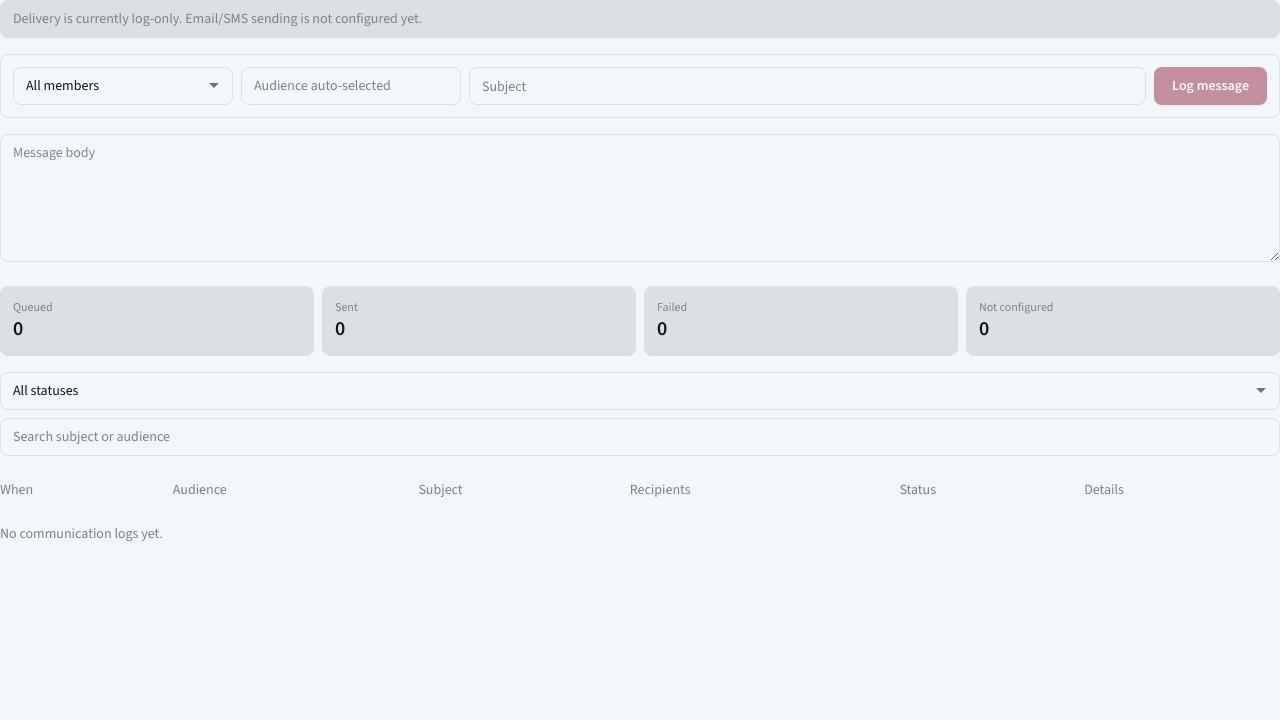
specific communication recipients › shows an empty state when there are no enrollments or no search matches
Type "Hello" into the field with placeholder "Subject" at (808, 86), box left=469, top=67, right=1146, bottom=105
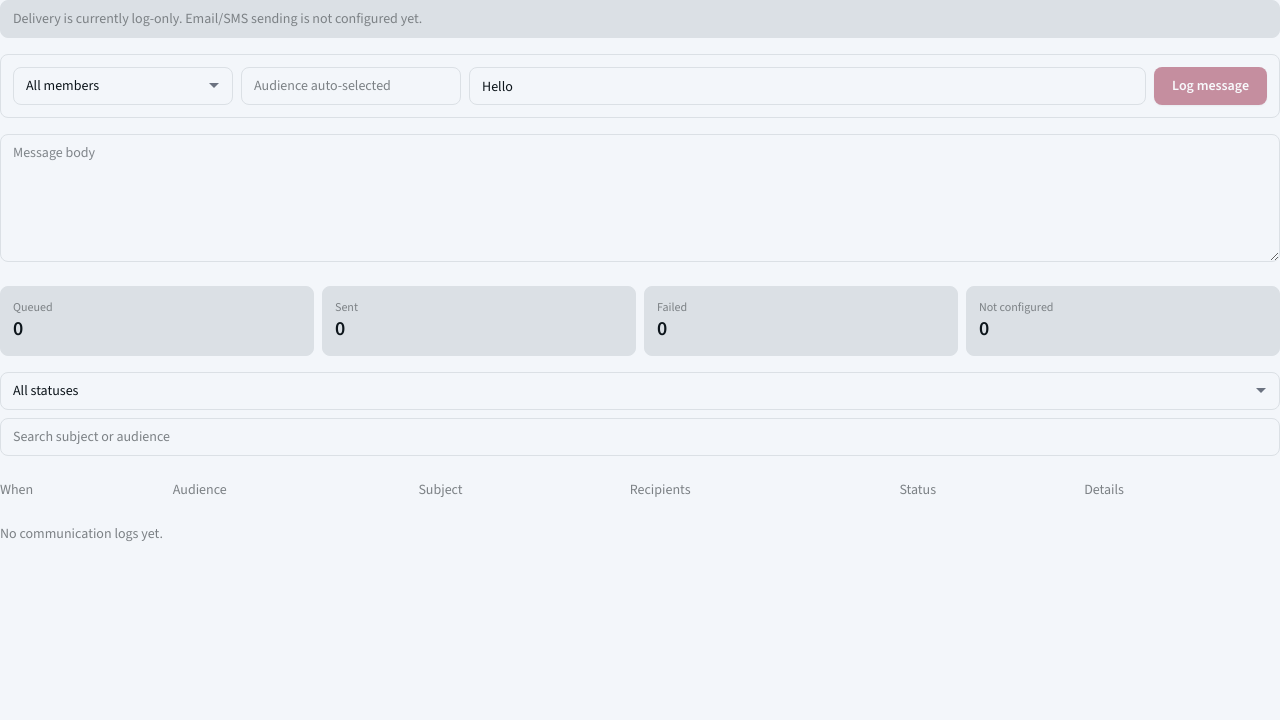
Type "Course reminder" into the text box with placeholder "Message body" at (640, 198), box left=0, top=134, right=1279, bottom=262
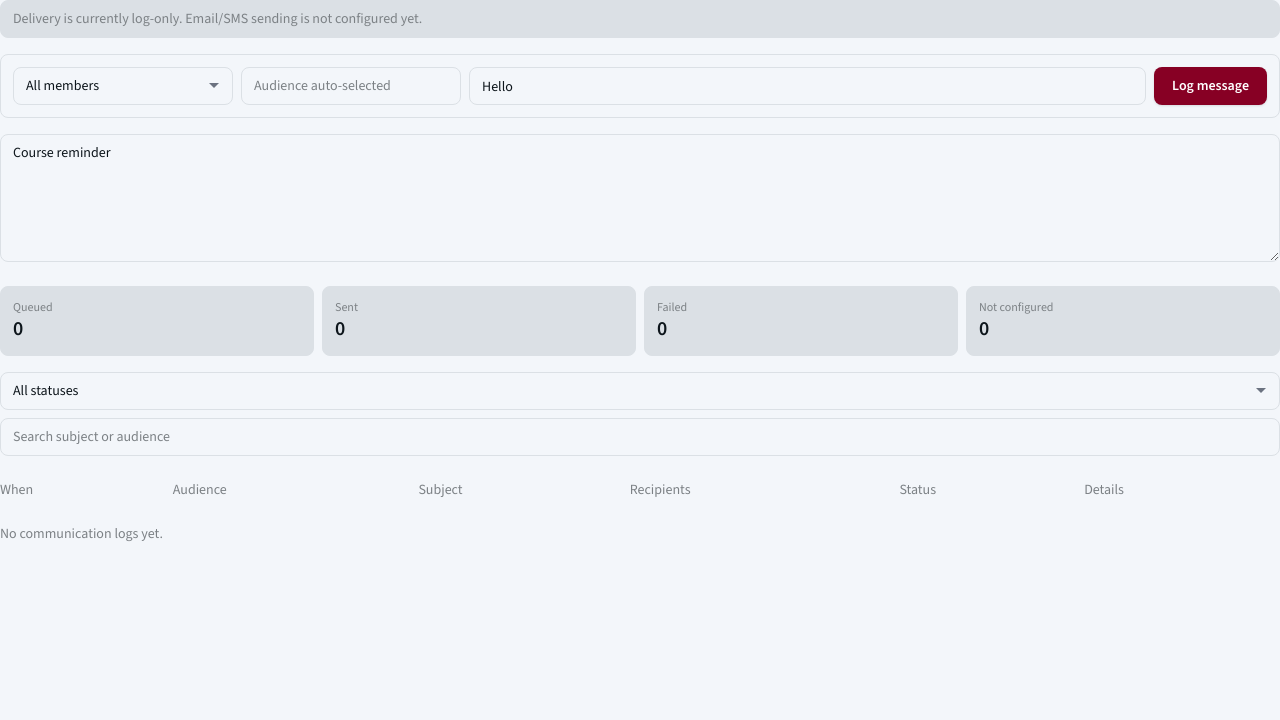
Select "Specific recipients" in the dropdown named "Recipients" at (123, 86), box left=13, top=67, right=233, bottom=105
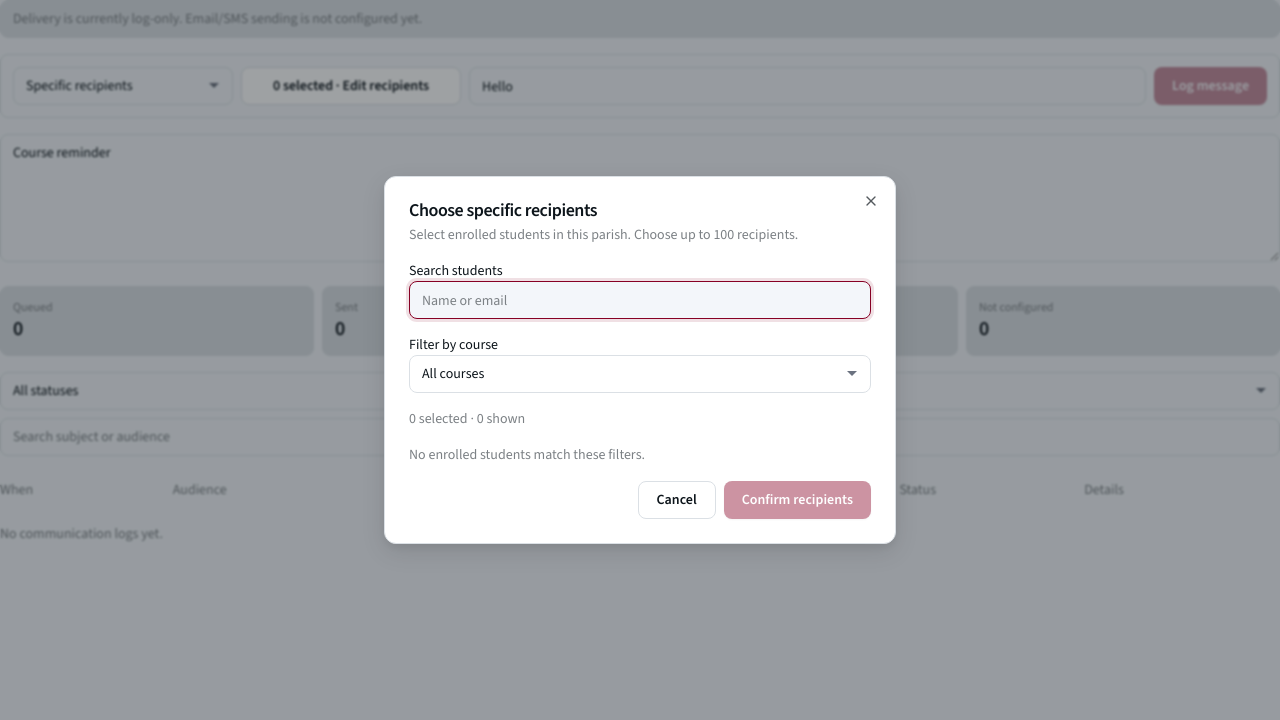
Result: the text "No enrolled students match these filters." is shown at left=409, top=445, right=645, bottom=464
Result: the button "Confirm recipients" is disabled at left=724, top=481, right=871, bottom=519
